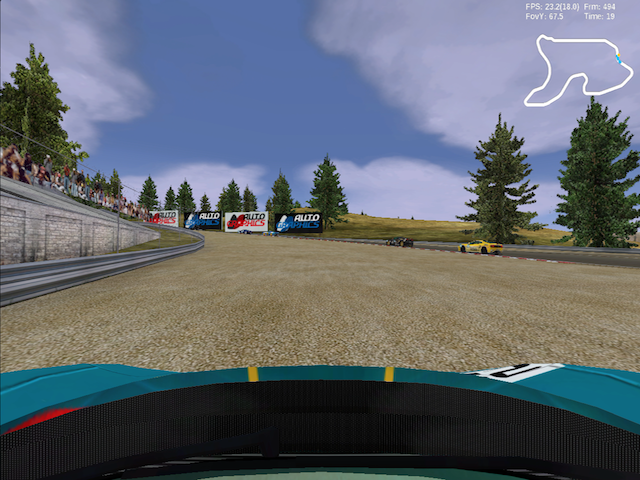Cavallo360: (458, 239, 504, 257)
Spirit300: (385, 236, 415, 248)
